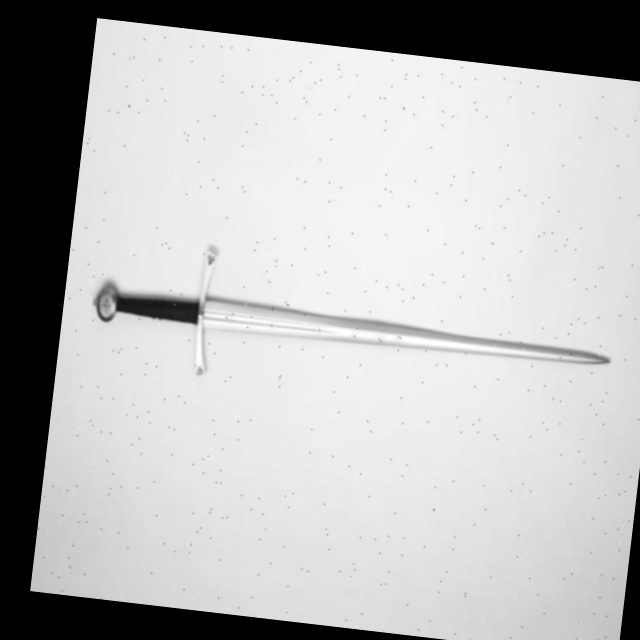Sharp-Object: (77, 268, 616, 385)
